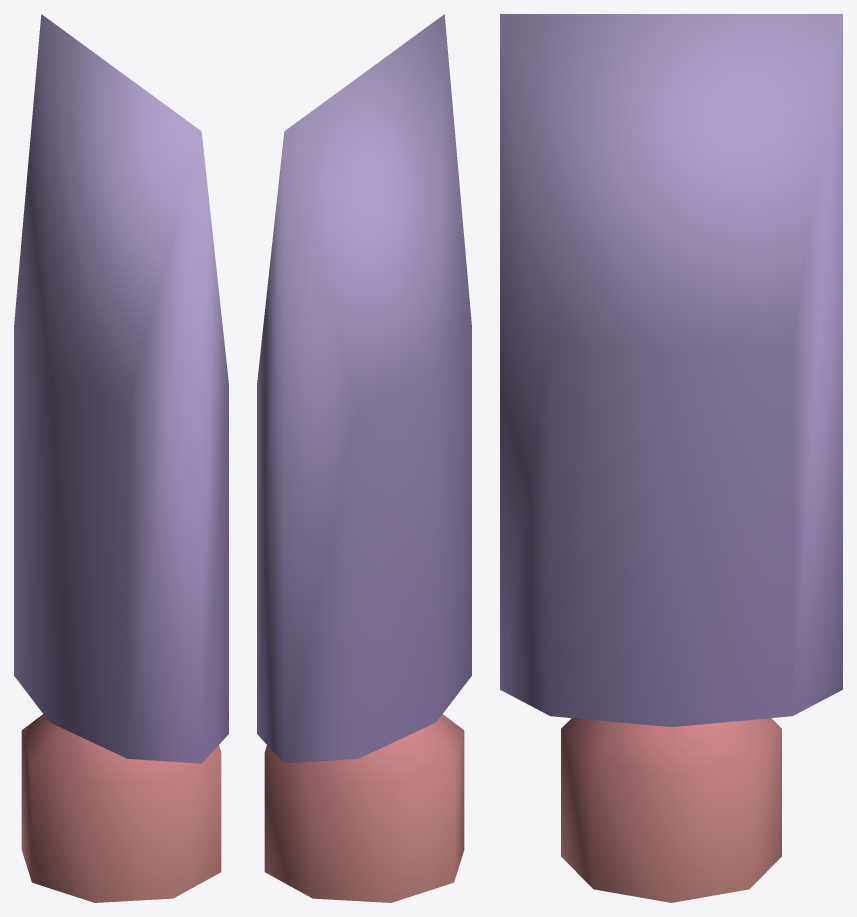
File: toothpaste.glb
3 views of the same model, side by side, from view 1: azimuth 30°, elevation 25°; view 2: azimuth 150°, elevation 25°; view 3: azimuth 270°, elevation 25° (orthographic). The views are drawn at different scales.
Visible parts, largest first — view 1: toothpaste; view 2: toothpaste; view 3: toothpaste.
Boxes of the visible parts, x1=… form: toothpaste: x1=14, y1=14, x2=228, y2=902; toothpaste: x1=257, y1=14, x2=471, y2=902; toothpaste: x1=500, y1=14, x2=842, y2=902.
Bounding box in the file's own units: 0.0766 × 0.3217 × 0.1187.
